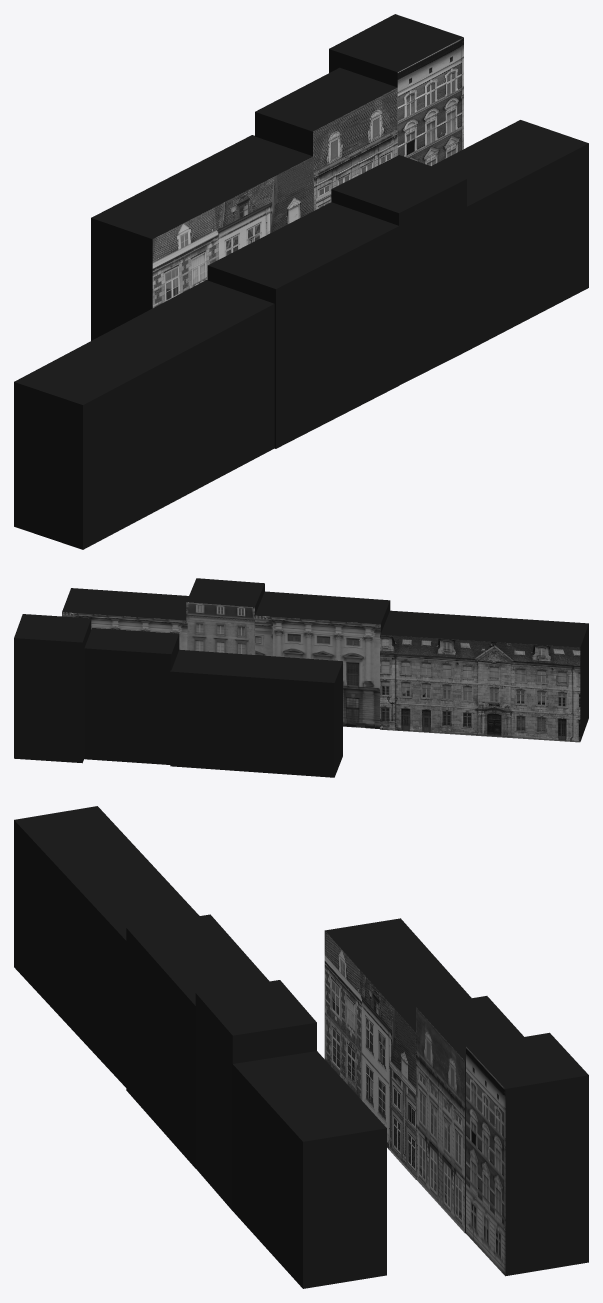
File: AM_OLD_PLaceholder_temp_buildings.FBX
3 views of the same model, one above another, from view 1: azimuth 30°, elevation 25°; view 2: azimuth 150°, elevation 25°; view 3: azimuth 270°, elevation 25° (orthographic). The views are drawn at different scales.
Visible parts, largest first — view 1: G_OLD_placeholder002, I_OLD_placeholder006, I_OLD_placeholder008, H_OLD_placeholder004, A_OLD_placeholder006, A_OLD_placeholder_front003, C_OLD_placeholder_front002, B_OLD_placeholder_front002, B_OLD_placeholder004, C_OLD_placeholder004; view 2: A_OLD_placeholder006, G_OLD_placeholder_front001, B_OLD_placeholder004, C_OLD_placeholder004, I_OLD_placeholderfront003, G_OLD_placeholder002, I_OLD_placeholder006, H_OLD_placeholder_front002, I_OLD_placeholder008, H_OLD_placeholder004, I_OLD_placeholderfront004; view 3: I_OLD_placeholder008, G_OLD_placeholder002, C_OLD_placeholder004, I_OLD_placeholder006, H_OLD_placeholder004, A_OLD_placeholder_front003, B_OLD_placeholder_front002, C_OLD_placeholder_front002, A_OLD_placeholder006, B_OLD_placeholder004.
Part boxes in pixels (bbox=[...]): G_OLD_placeholder002: bbox=[14, 280, 274, 549]; I_OLD_placeholder006: bbox=[207, 202, 399, 448]; I_OLD_placeholder008: bbox=[431, 120, 588, 350]; H_OLD_placeholder004: bbox=[331, 155, 466, 385]; A_OLD_placeholder006: bbox=[91, 135, 313, 340]; A_OLD_placeholder_front003: bbox=[152, 156, 313, 307]; C_OLD_placeholder_front002: bbox=[397, 37, 463, 165]; B_OLD_placeholder_front002: bbox=[313, 88, 397, 210]; B_OLD_placeholder004: bbox=[255, 67, 397, 156]; C_OLD_placeholder004: bbox=[329, 14, 463, 87]; A_OLD_placeholder006: bbox=[170, 649, 342, 777]; G_OLD_placeholder_front001: bbox=[380, 634, 580, 742]; B_OLD_placeholder004: bbox=[84, 628, 179, 764]; C_OLD_placeholder004: bbox=[14, 614, 91, 763]; I_OLD_placeholderfront003: bbox=[255, 615, 380, 728]; G_OLD_placeholder002: bbox=[380, 610, 588, 741]; I_OLD_placeholder006: bbox=[255, 591, 390, 633]; H_OLD_placeholder_front002: bbox=[186, 602, 254, 654]; I_OLD_placeholder008: bbox=[62, 588, 188, 620]; H_OLD_placeholder004: bbox=[186, 578, 264, 614]; I_OLD_placeholderfront004: bbox=[62, 612, 187, 650]; I_OLD_placeholder008: bbox=[232, 1051, 386, 1288]; G_OLD_placeholder002: bbox=[14, 806, 199, 1087]; C_OLD_placeholder004: bbox=[466, 1032, 588, 1276]; I_OLD_placeholder006: bbox=[126, 914, 269, 1168]; H_OLD_placeholder004: bbox=[195, 980, 316, 1210]; A_OLD_placeholder_front003: bbox=[324, 931, 415, 1179]; B_OLD_placeholder_front002: bbox=[416, 1007, 464, 1232]; C_OLD_placeholder_front002: bbox=[466, 1047, 505, 1275]; A_OLD_placeholder006: bbox=[325, 918, 471, 1179]; B_OLD_placeholder004: bbox=[416, 996, 523, 1233].
Size of the model in its own units: 8840 by 2300 by 6400.
7 materials, 6 textured.
